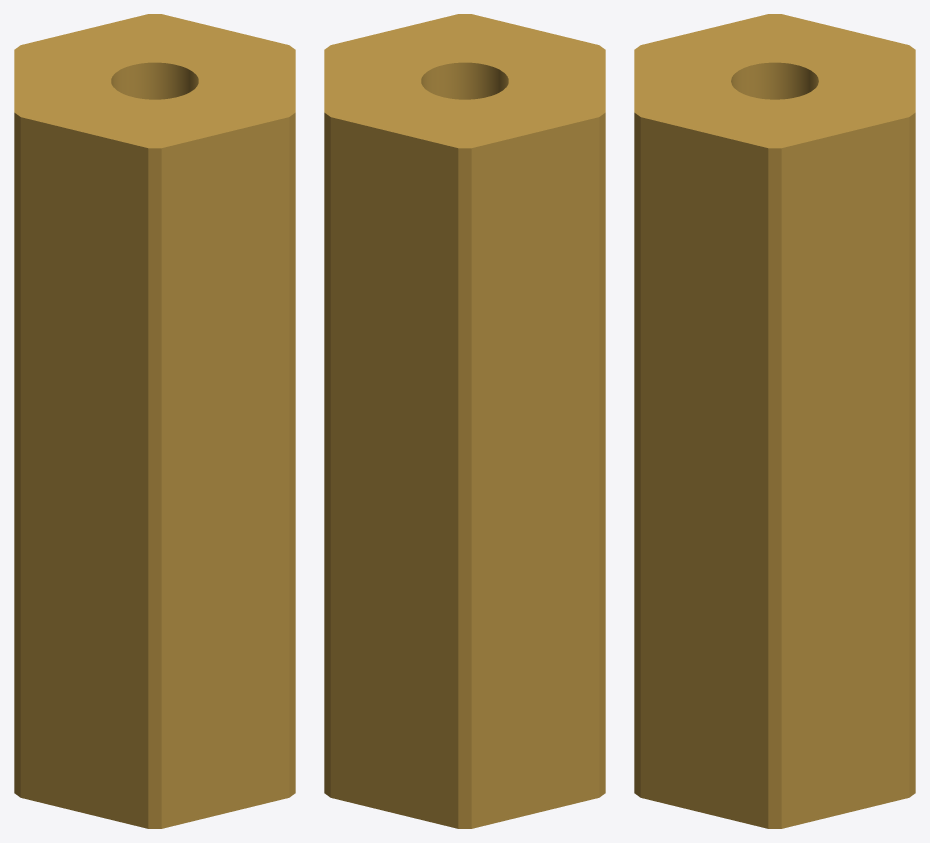
File: standoff_hex_female_female_m3_l0020_simple.glb
3 renders of one model, left to right at view 1: azimuth 30°, elevation 25°; view 2: azimuth 150°, elevation 25°; view 3: azimuth 270°, elevation 25°, orthographic.
Visible parts, largest first — view 1: standoff; view 2: standoff; view 3: standoff.
Boxes of the visible parts, box(x1,y1,x2,y2) form: standoff: box(14, 14, 295, 828); standoff: box(324, 14, 605, 828); standoff: box(634, 14, 915, 828).
Size of the model in its own units: 0.00846 by 0.02 by 0.0075.
